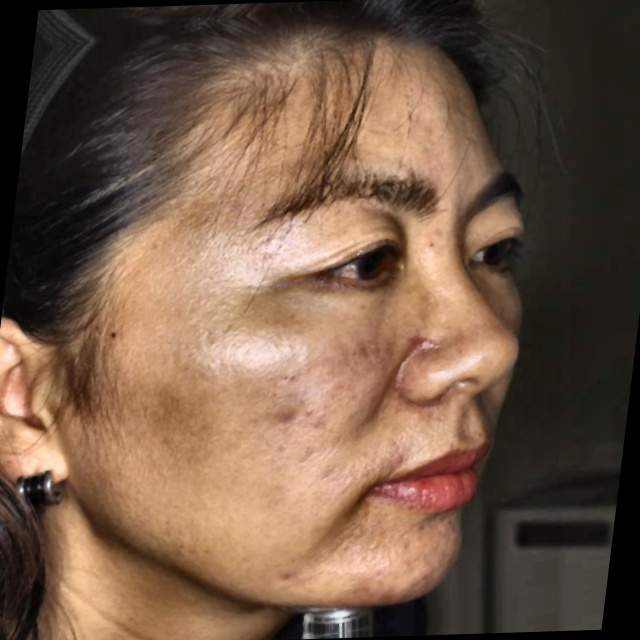comedone: (263, 395, 312, 444), (257, 566, 313, 605), (407, 332, 439, 356)
